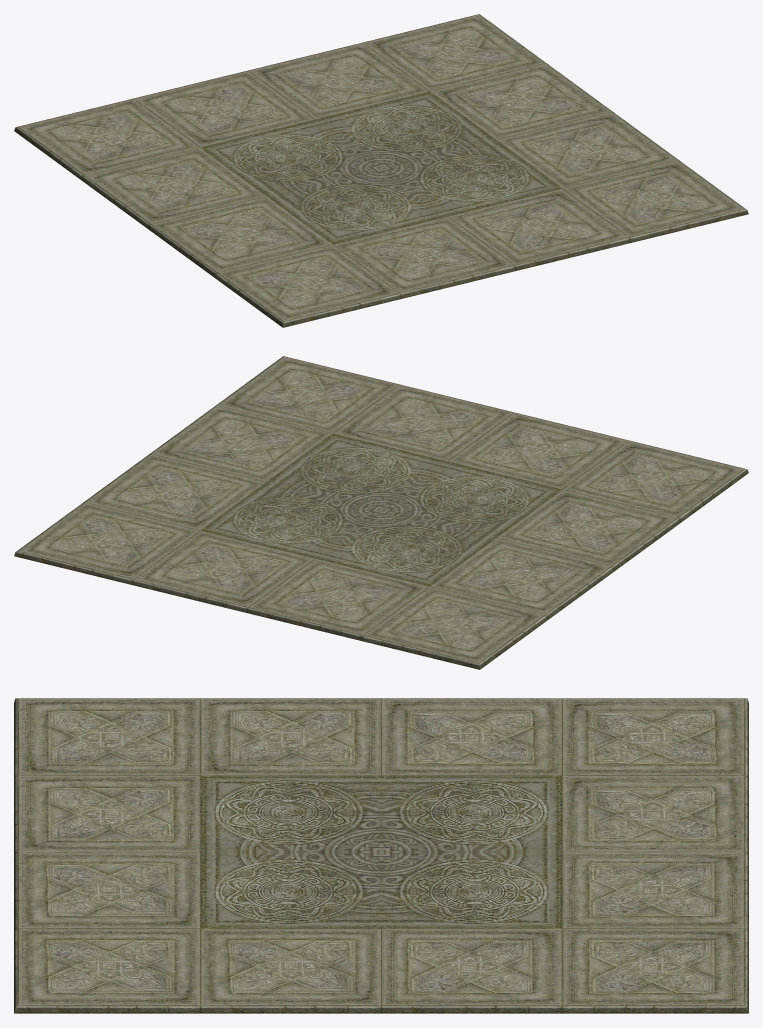
File: secret_floor_01.glb
3 renders of one model, top to bottom at view 1: azimuth 30°, elevation 25°; view 2: azimuth 150°, elevation 25°; view 3: azimuth 270°, elevation 25°, orthographic. The views are drawn at different scales.
Visible parts, largest first — view 1: secret_Floor_01; view 2: secret_Floor_01; view 3: secret_Floor_01.
Part boxes in pixels (x1,y1,x2,y2): secret_Floor_01: (14,14,748,327); secret_Floor_01: (14,356,748,669); secret_Floor_01: (14,698,748,1013).
Bounding box in the file's own units: 32.53 × 0.3042 × 32.53.
2 materials, 2 textured.
